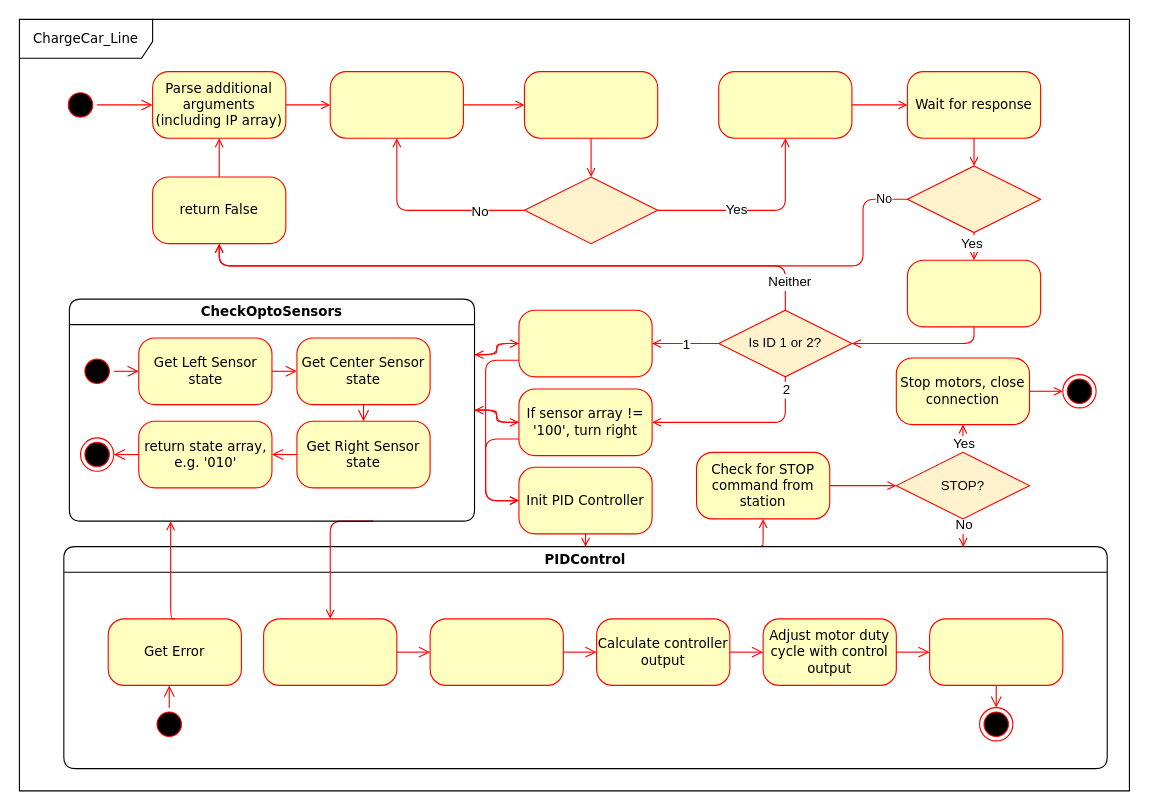
The diagram is 1149 pixels wide and 810 high, and some of its shapes have lost their labels. Here are the shapes that lost their labels. From the top down, the centre of each, then its label:
the point at 396,104: i = i + 1
the point at 590,104: Connect to IP[i]
the point at 785,104: Send TCP ChargeRequest
the point at 590,210: Success?
the point at 973,199: Is data valid?
the point at 973,293: Get Station ID
the point at 585,343: If sensor array != '001', turn left
the point at 330,651: Get Integral of Error
the point at 496,651: Get Derivative of Error
the point at 996,651: return Integral and Error
